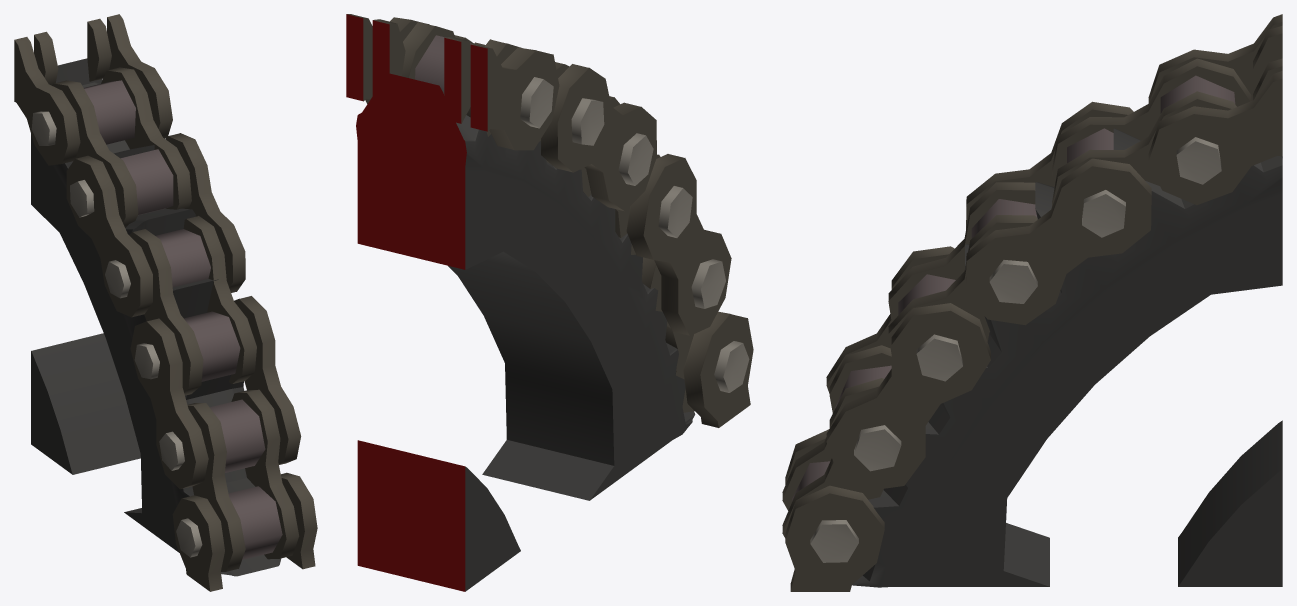
Rendered from chain_sprocket_section.dae.
The picture shows the model from 3 angles, left to right: view 1: azimuth 30°, elevation 25°; view 2: azimuth 150°, elevation 25°; view 3: azimuth 270°, elevation 25°; orthographic projection. The views are drawn at different scales.
Parts seen in each view (by area): view 1: chain, sprocket, inner_links, rollers, pins; view 2: sprocket, section, chain, pins, inner_links, rollers; view 3: sprocket, chain, inner_links, pins, rollers.
Boxes of the visible parts, bbox=[...] form: chain: bbox=[14, 14, 317, 591]; sprocket: bbox=[31, 58, 281, 576]; inner_links: bbox=[34, 18, 299, 571]; rollers: bbox=[84, 80, 282, 559]; pins: bbox=[31, 111, 202, 557]; sprocket: bbox=[441, 88, 695, 591]; section: bbox=[346, 14, 487, 591]; chain: bbox=[347, 14, 753, 427]; pins: bbox=[520, 77, 749, 392]; inner_links: bbox=[373, 19, 694, 412]; rollers: bbox=[415, 35, 472, 88]; sprocket: bbox=[852, 128, 1282, 587]; chain: bbox=[785, 14, 1282, 591]; inner_links: bbox=[782, 25, 1282, 537]; pins: bbox=[810, 137, 1221, 562]; rollers: bbox=[792, 75, 1235, 500].
Bounding box in the file's own units: 2.34 × 7.68 × 6.78.
